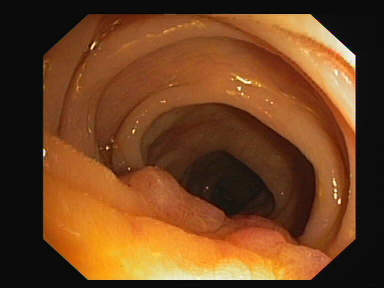polyp: (119, 163, 223, 231), (225, 214, 292, 244)
